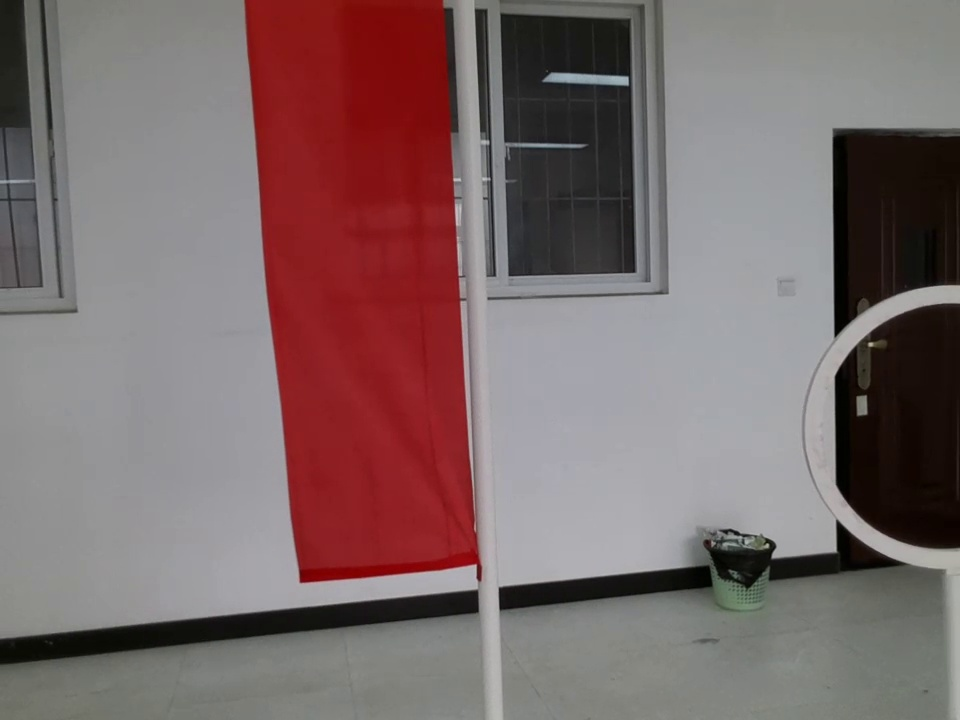qi: (236, 1, 504, 592)
quan: (794, 284, 960, 590)
